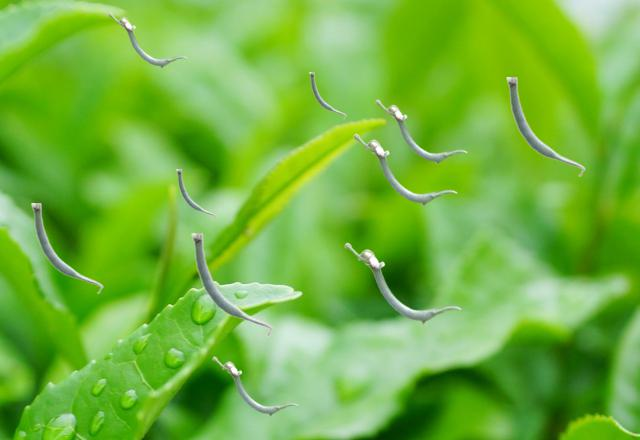french_bean: (344, 242, 460, 323), (191, 233, 272, 336), (506, 77, 584, 176), (353, 133, 456, 205), (31, 203, 102, 293), (375, 99, 466, 163), (212, 356, 297, 415), (108, 12, 186, 67), (176, 169, 215, 219), (309, 72, 345, 118)
